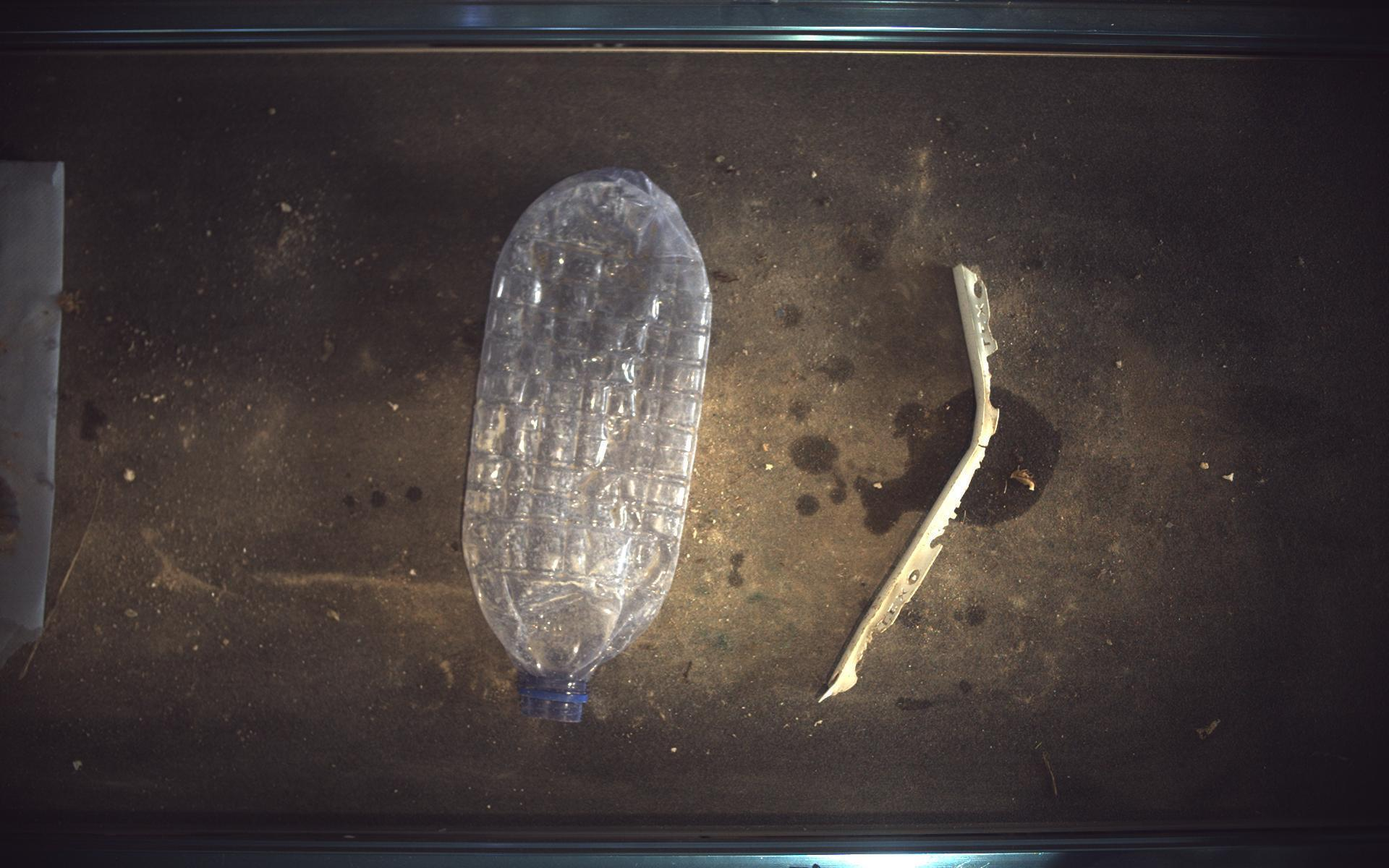general_w: (462, 167, 713, 723)
plastic: (820, 264, 1002, 704)
